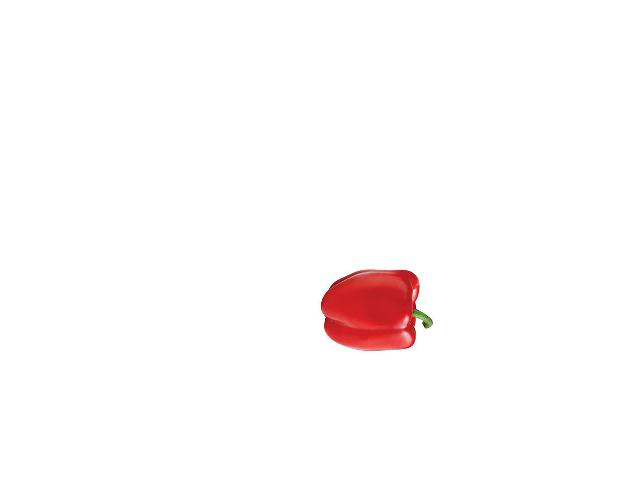bell_pepper: (317, 264, 432, 355)
